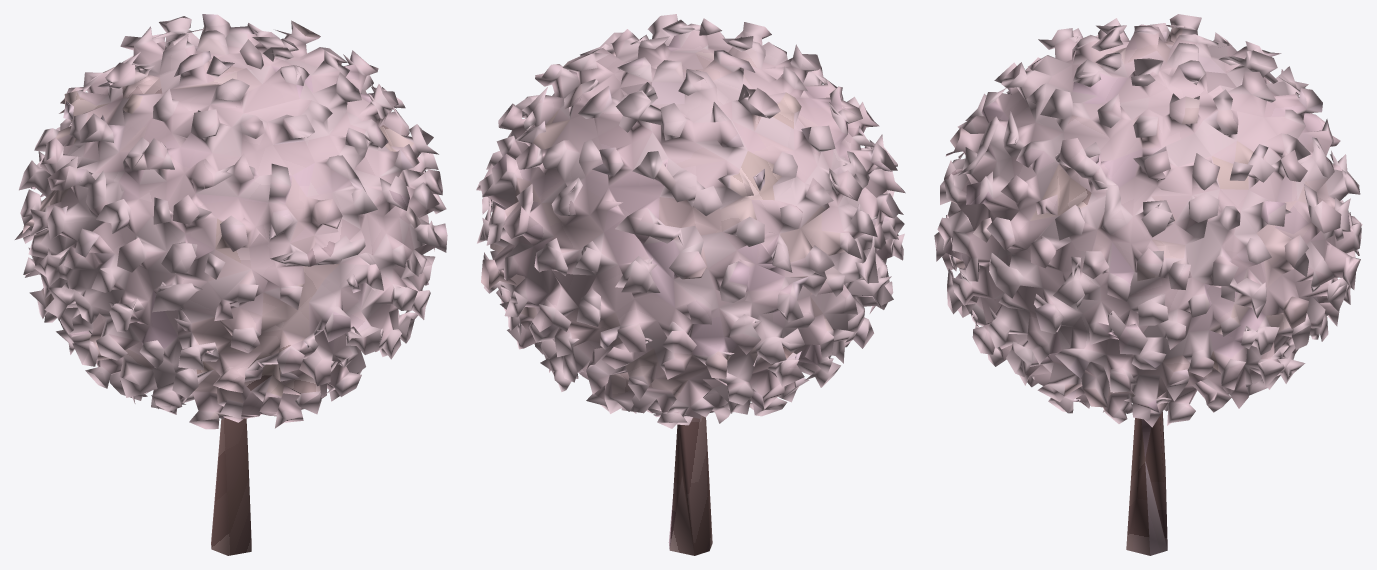
The model's file is JP_사물_s2_sm_tree.glb.
The picture shows the model from 3 angles, left to right: view 1: azimuth 30°, elevation 25°; view 2: azimuth 150°, elevation 25°; view 3: azimuth 270°, elevation 25°; orthographic projection.
Visible parts, largest first — view 1: tripo_node_fb6b487a-b91b-464c-a0da-5b3e54034ade; view 2: tripo_node_fb6b487a-b91b-464c-a0da-5b3e54034ade; view 3: tripo_node_fb6b487a-b91b-464c-a0da-5b3e54034ade.
Part boxes in pixels (bbox=[...]): tripo_node_fb6b487a-b91b-464c-a0da-5b3e54034ade: bbox=[15, 14, 447, 555]; tripo_node_fb6b487a-b91b-464c-a0da-5b3e54034ade: bbox=[476, 14, 905, 555]; tripo_node_fb6b487a-b91b-464c-a0da-5b3e54034ade: bbox=[934, 14, 1362, 555].
Size of the model in its own units: 0.7617 by 1 by 0.7475.
1 material, 1 textured.
